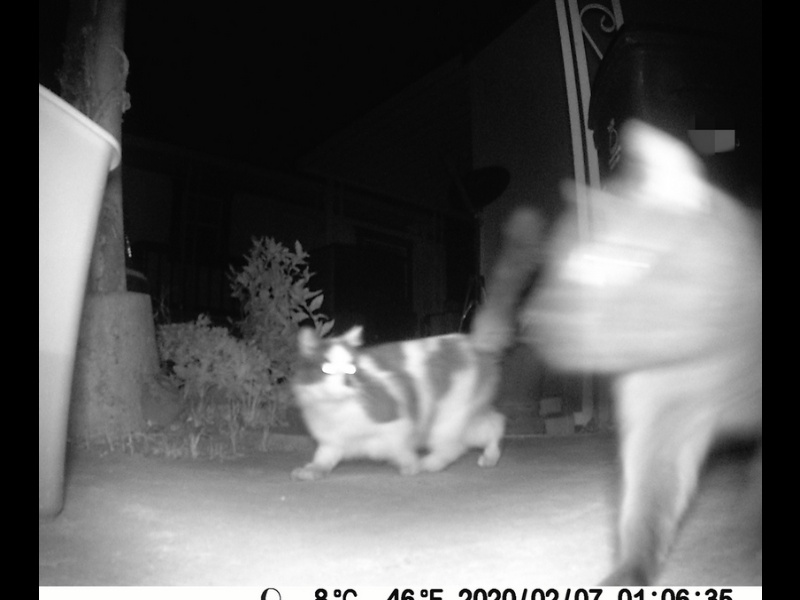cat: (525, 115, 758, 582), (280, 204, 542, 487)
